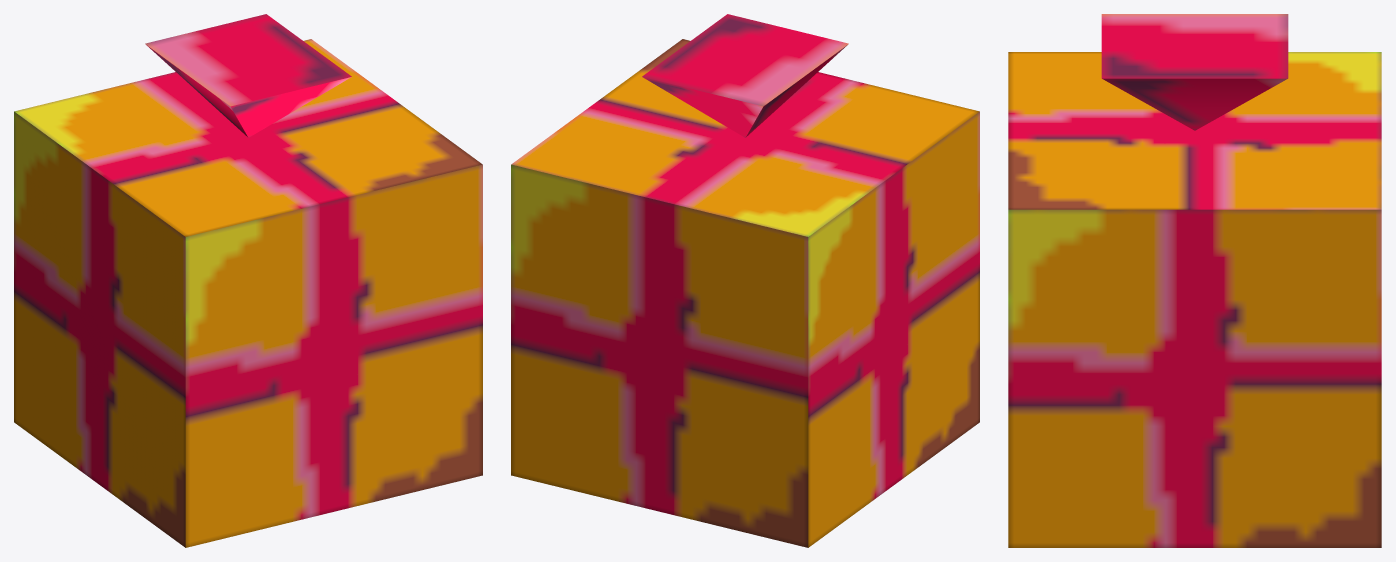
File: gift.obj
3 renders of one model, left to right at view 1: azimuth 30°, elevation 25°; view 2: azimuth 150°, elevation 25°; view 3: azimuth 270°, elevation 25°, orthographic. The views are drawn at different scales.
Visible parts, largest first — view 1: gift; view 2: gift; view 3: gift.
Part boxes in pixels (x1,y1,x2,y2): gift: [14, 14, 482, 547]; gift: [511, 14, 979, 547]; gift: [1008, 14, 1381, 547].
Size of the model in its own units: 1 by 1.25 by 1.
